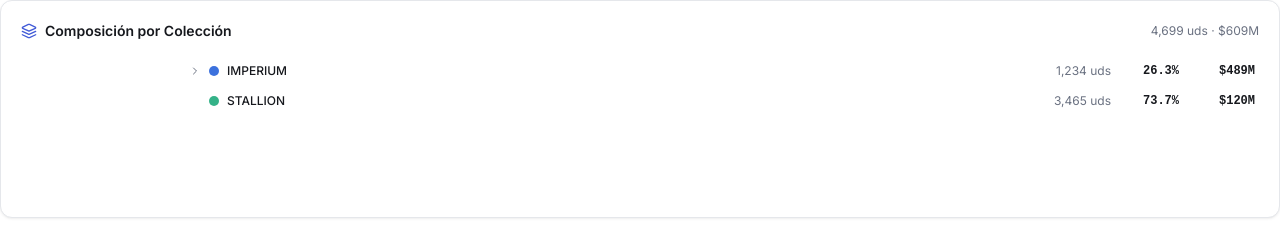
Test case: Collection composition sold value › shows the line value inside the expanded collection detail
Click the button "IMPERIUM 1,234 uds 26.3% $489M": x=257, y=70 [185,57,1259,85]
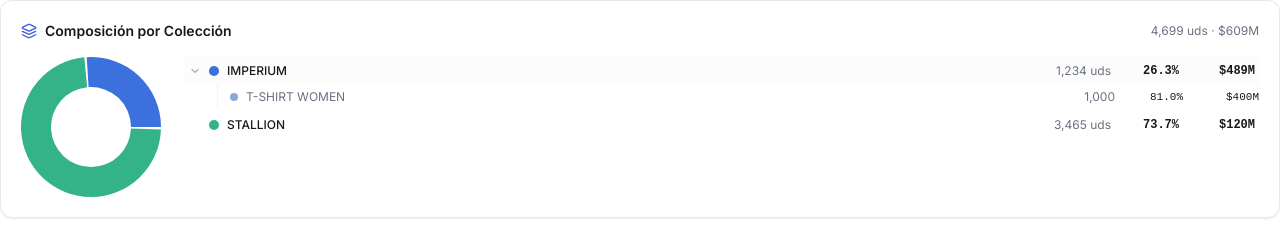
Expected: the text "$400M" is shown, [1226,91,1259,103]
